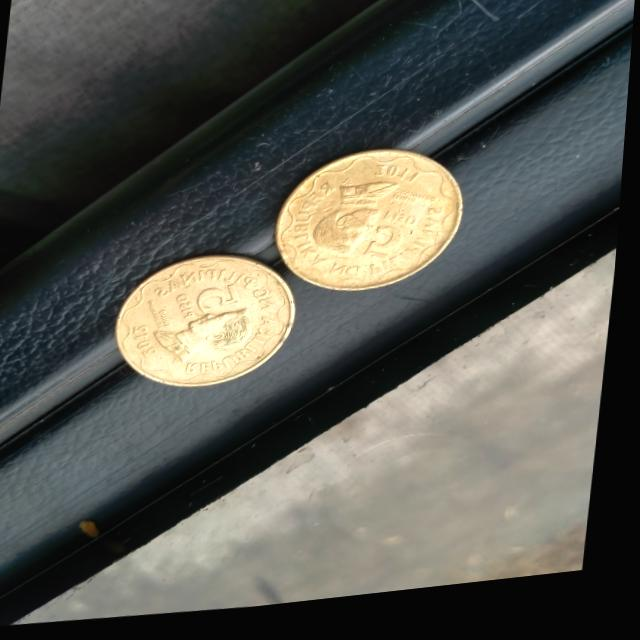5_Old_Front: (353, 200, 433, 275), (171, 276, 262, 339)
